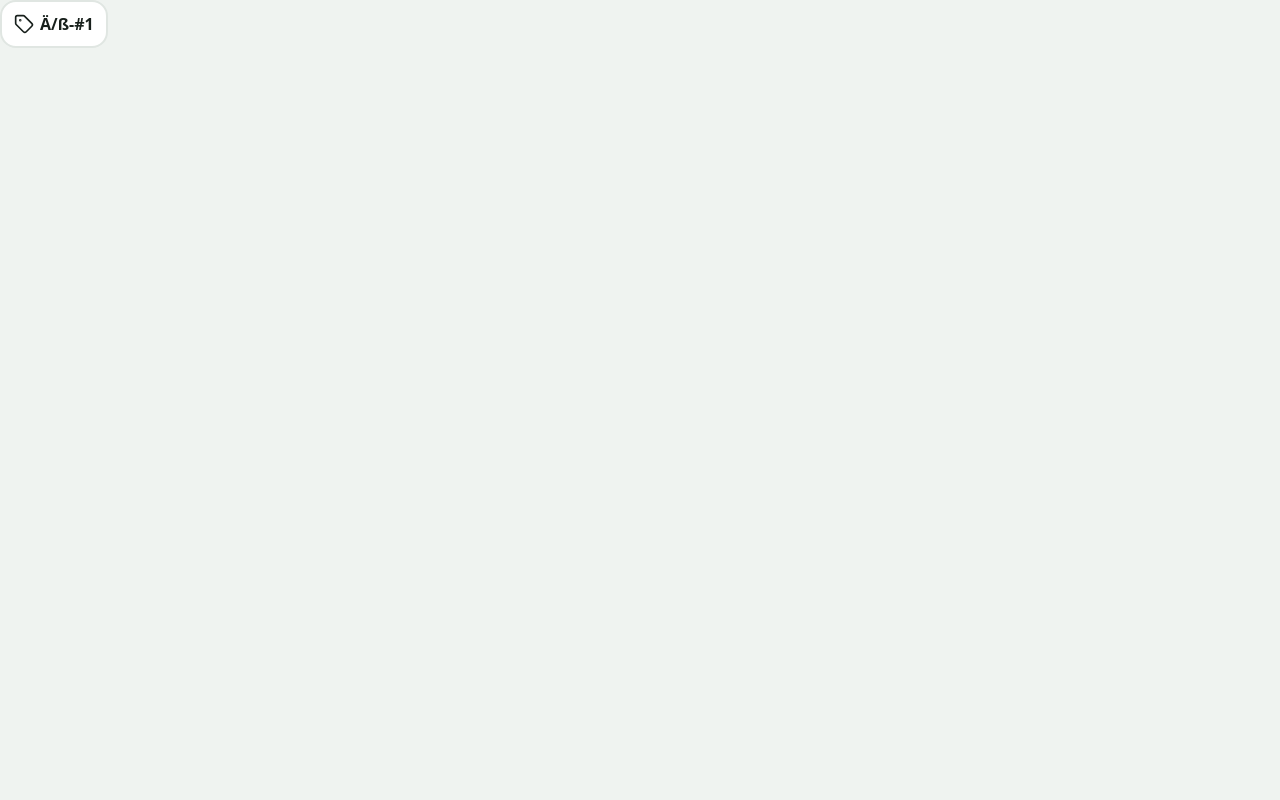
Test case: AbbreviationChip in de › shows the text and queues a corrected value
Later steps or results of the test are not shown.
Click the button with test id "abbreviation-chip" at coordinates (54, 24), box [0,0,108,48]
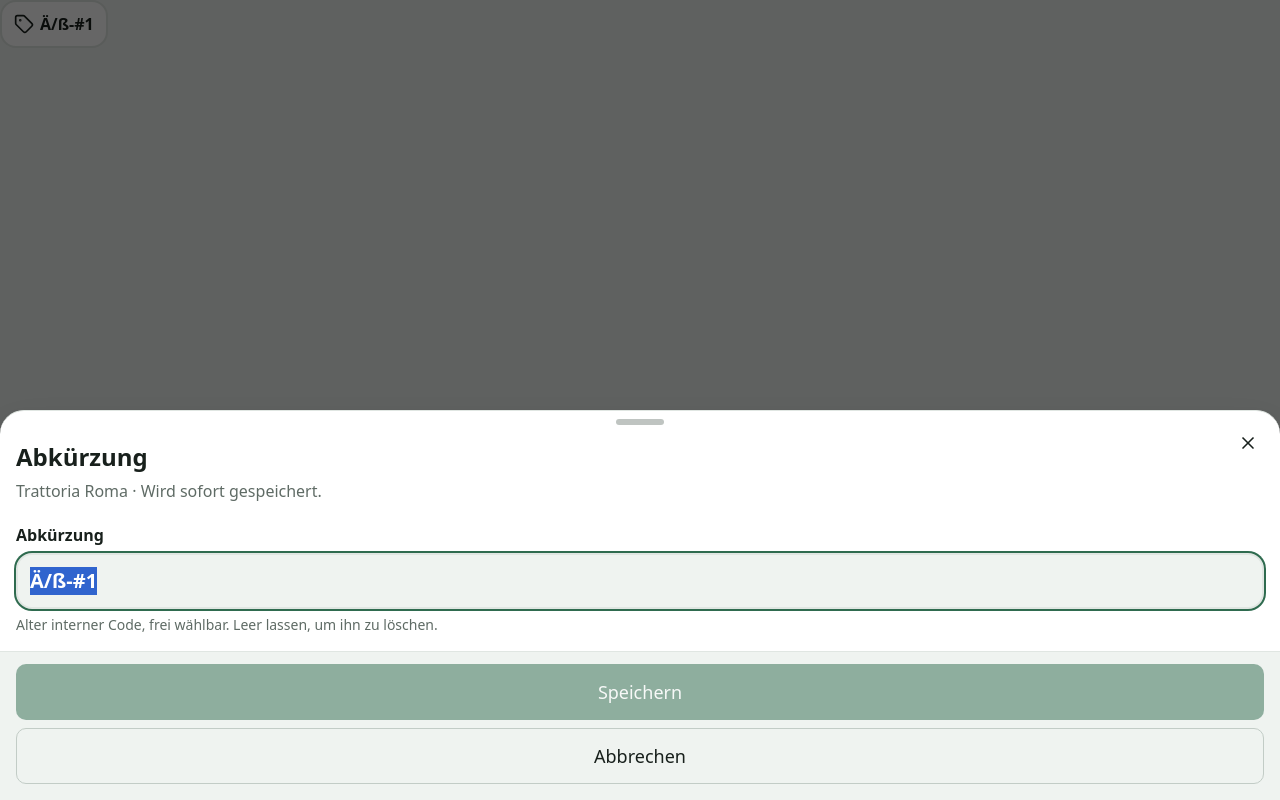
Result: the button with test id "abbreviation-save" is disabled at [16,664,1264,720]
